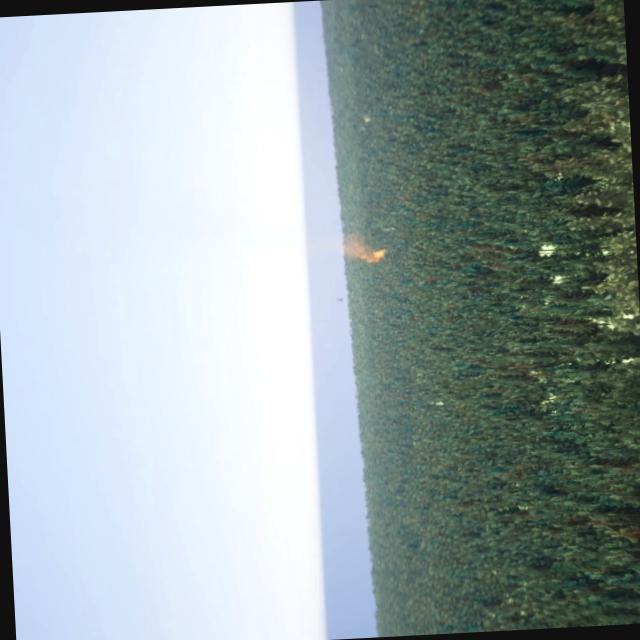fire: (374, 246, 387, 259)
smoke: (328, 230, 375, 262)
